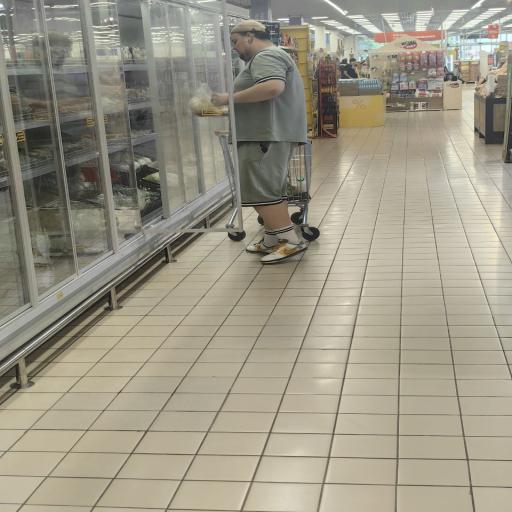shopping_cart: (213, 129, 321, 241)
